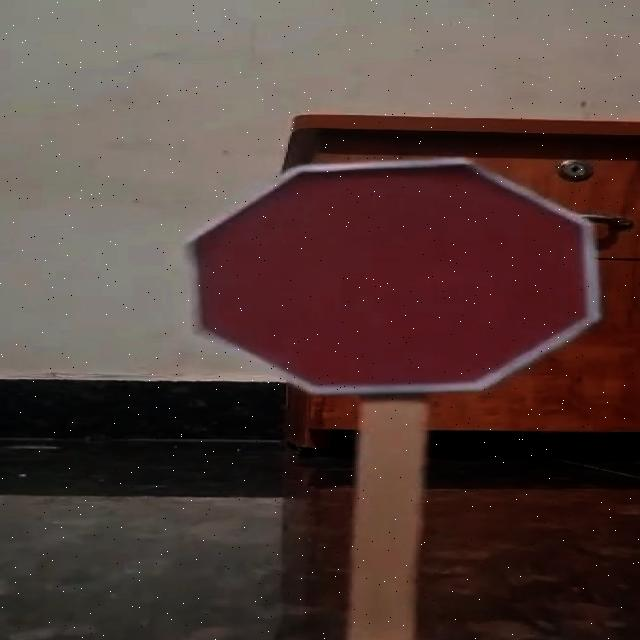Stop: (154, 148, 616, 408)
